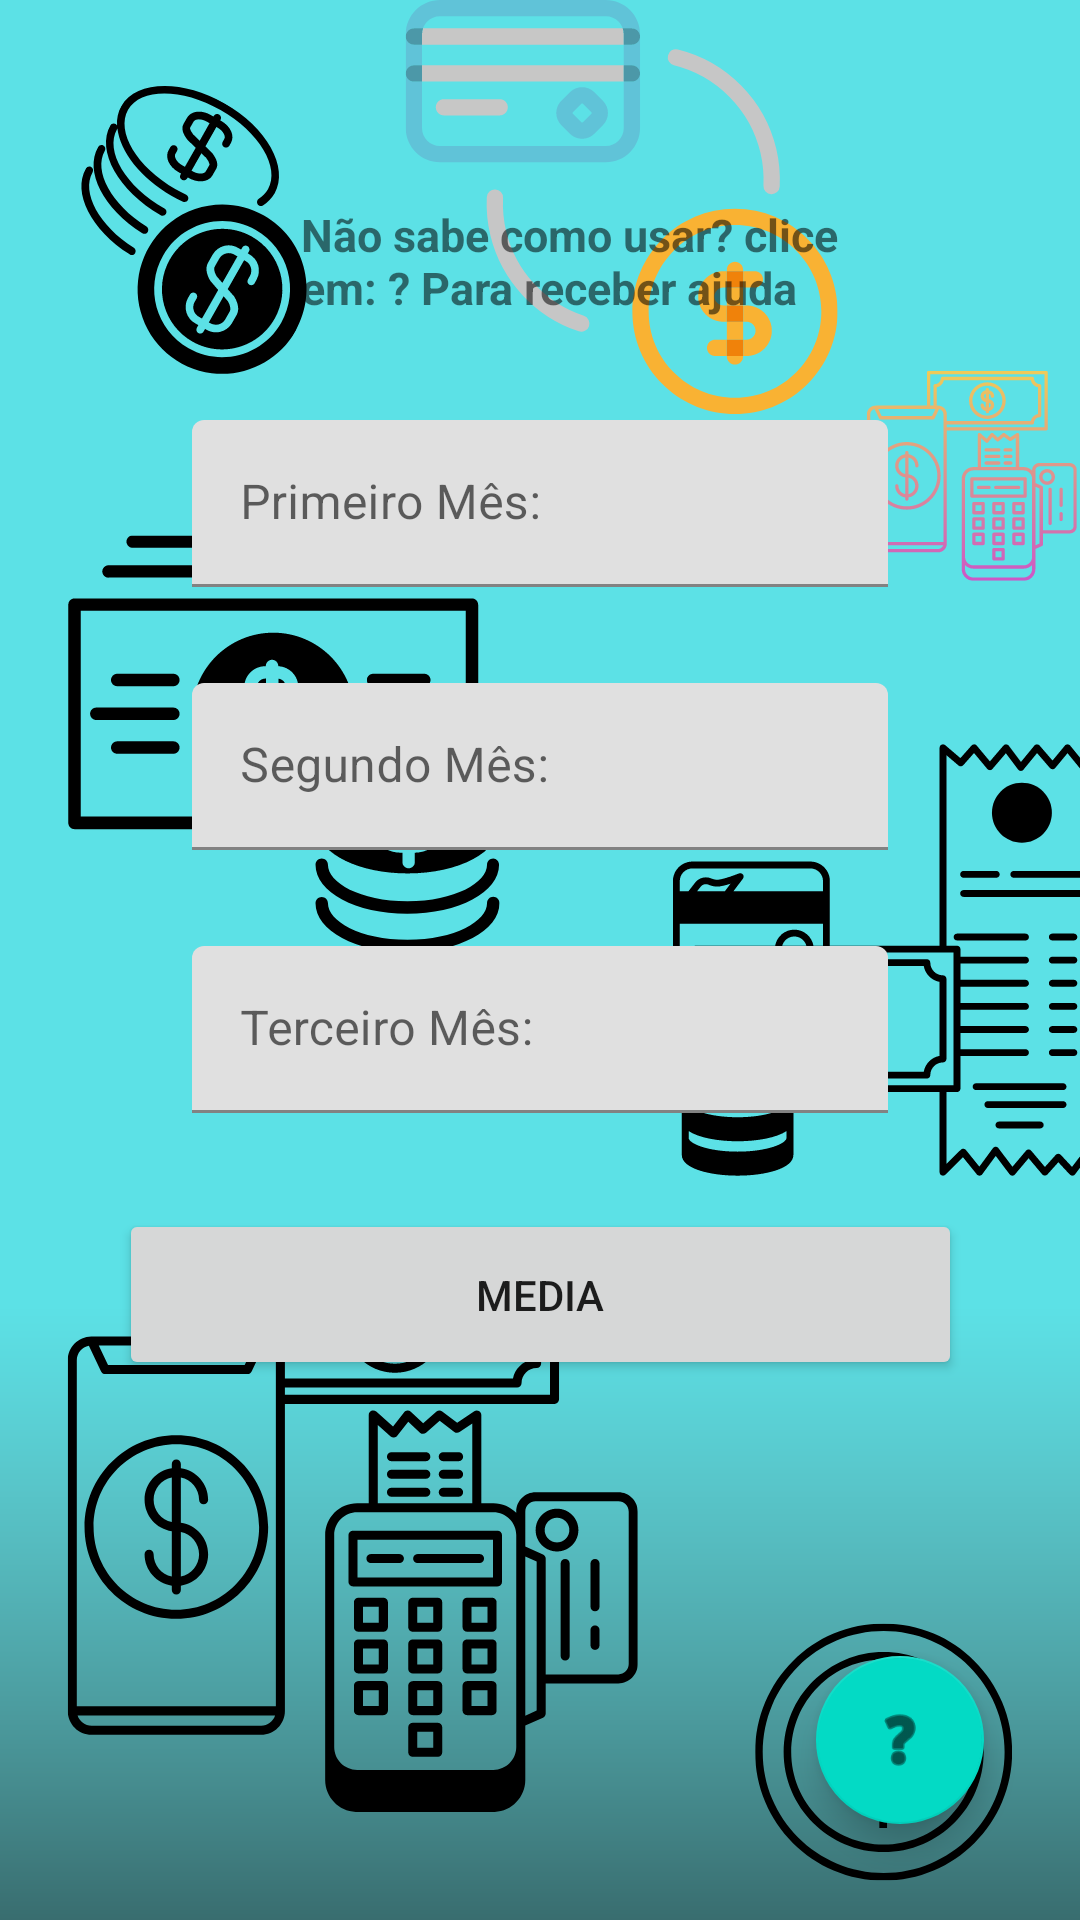

Icons on this 1080px×1920px Android screen, each with the point to tap as [x,y]:
help: [900,1740]
